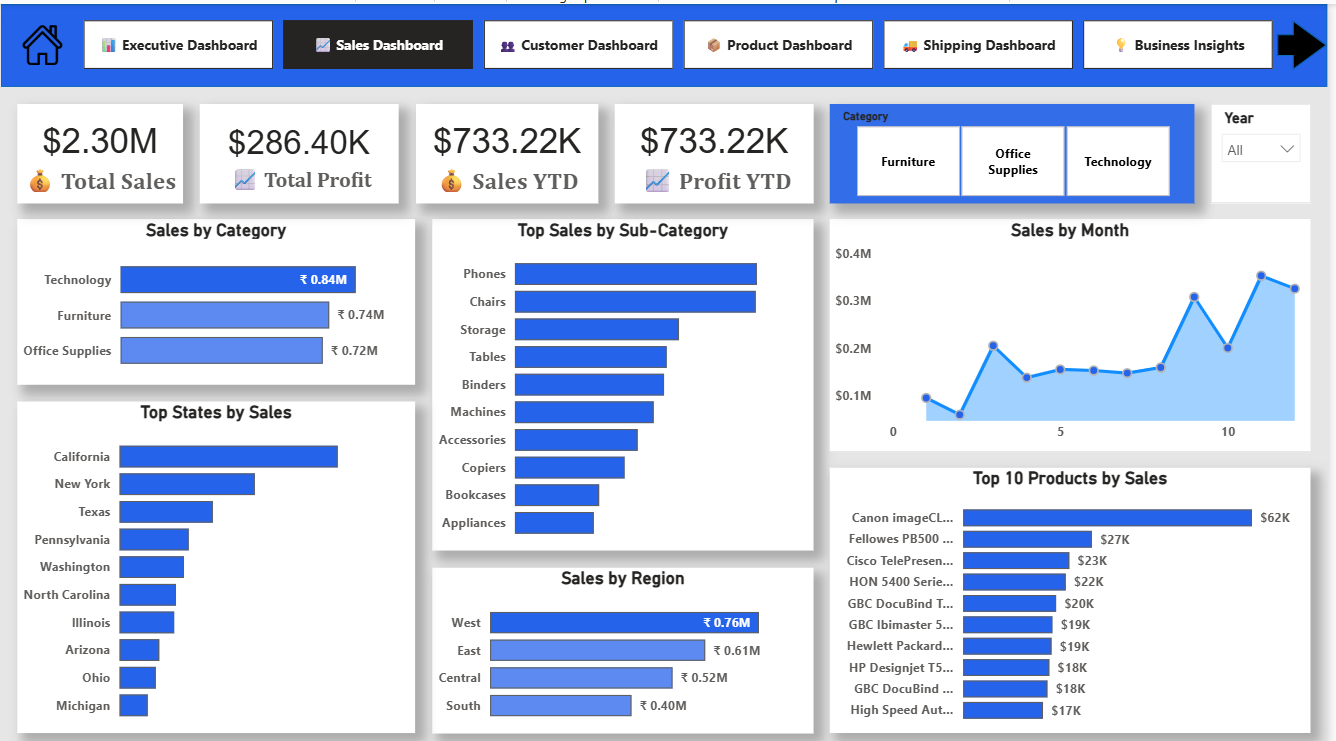

What the dashboard file says about the page in this screenshot:
{"tool":"powerbi","page":{"name":"📈 Sales Dashboard","canvas":[1280,720],"ordinal":2},"visuals":[{"type":"clusteredBarChart","title":"Sales by Category","fields":{"Category":["DIm_Product.category"],"Y":["Sum(Fact_orders_Superstore.sales)"]},"box":[16,96,384,160],"z":0},{"type":"clusteredBarChart","title":"Sales by Sub-Category","fields":{"Category":["DIm_Product.sub_category"],"Y":["Sum(Fact_orders_Superstore.sales)"]},"box":[416,96,368,400],"z":1000},{"type":"clusteredBarChart","title":"Sales by Region","fields":{"Category":["Dim_Customer.region"],"Y":["Sum(Fact_orders_Superstore.sales)"]},"box":[416,512,368,192],"z":2000},{"type":"clusteredBarChart","title":"Top States by Sales","fields":{"Category":["Dim_Customer.state"],"Y":["Sum(Fact_orders_Superstore.sales)"]},"box":[16,272,384,432],"z":3000},{"type":"stackedAreaChart","title":"Sales by Month","fields":{"Category":["Dim_Date.month"],"Y":["KPI_Measures.Total Sales"]},"box":[800,96,464,256],"z":4000},{"type":"barChart","title":"Top 10 Products by Sales","fields":{"Category":["DIm_Product.product_name"],"Y":["KPI_Measures.Total Sales"]},"box":[800,368,464,336],"z":5000},{"type":"shape","box":[0,0,1280,80],"z":6000},{"type":"pageNavigator","box":[80,16,1152,48],"z":7000},{"type":"image","box":[0,16,80,48],"z":8000},{"type":"shape","box":[1232,16,48,48],"z":8001}]}

Visuals, with their boxes in screenshot pixels (x1, y1, x2, y2), scaled from the page's 1280x720 canvas onto the 1336x741 screenshot:
"Sales by Category" clusteredBarChart: region(17, 99, 418, 263)
"Sales by Sub-Category" clusteredBarChart: region(434, 99, 818, 510)
"Sales by Region" clusteredBarChart: region(434, 527, 818, 725)
"Top States by Sales" clusteredBarChart: region(17, 280, 418, 725)
"Sales by Month" stackedAreaChart: region(835, 99, 1319, 362)
"Top 10 Products by Sales" barChart: region(835, 379, 1319, 725)
shape: region(0, 0, 1335, 82)
pageNavigator: region(84, 16, 1286, 66)
image: region(0, 16, 84, 66)
shape: region(1286, 16, 1335, 66)
